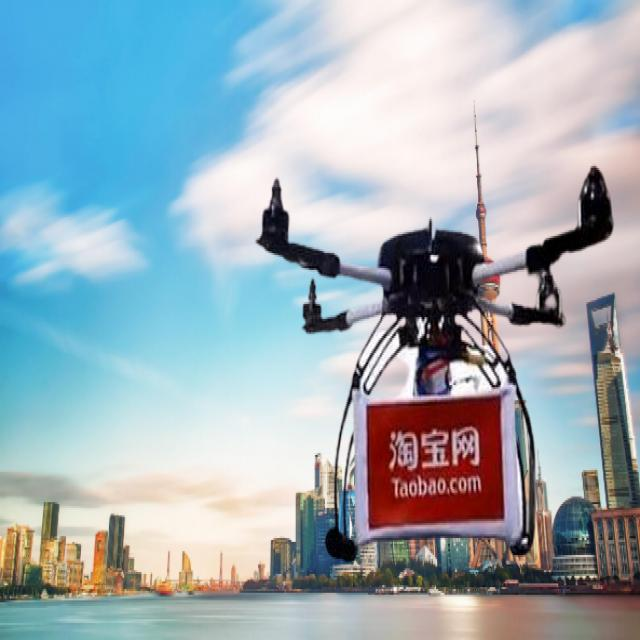drones: (251, 150, 616, 574)
